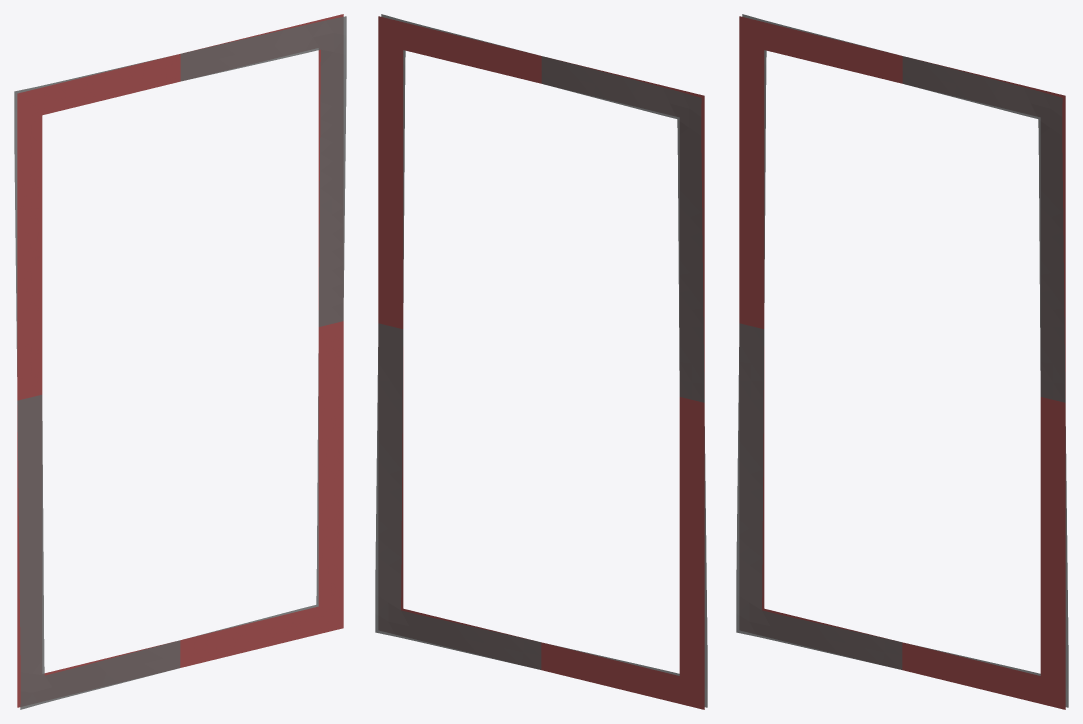
Rendered from warping-box-189-105-9-8-285.glb.
3 renders of one model, left to right at view 1: azimuth 30°, elevation 25°; view 2: azimuth 150°, elevation 25°; view 3: azimuth 330°, elevation 25°, orthographic.
Parts seen in each view (by area): view 1: undeformed cross-section, cross-section with warping; view 2: undeformed cross-section, cross-section with warping; view 3: undeformed cross-section, cross-section with warping.
Part boxes in pixels (bbox=[...]): undeformed cross-section: bbox=[17, 14, 343, 707]; cross-section with warping: bbox=[14, 16, 346, 709]; undeformed cross-section: bbox=[378, 16, 704, 709]; cross-section with warping: bbox=[375, 14, 707, 707]; undeformed cross-section: bbox=[739, 16, 1065, 709]; cross-section with warping: bbox=[736, 14, 1068, 707].
Bounding box in the file's own units: 0.105 × 0.189 × 0.00364.
